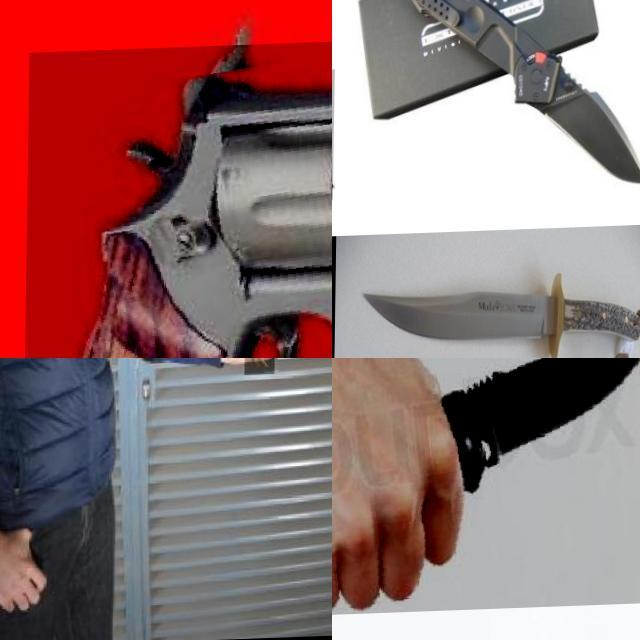-: (332, 358, 640, 618), (353, 282, 558, 358), (531, 66, 640, 194), (332, 71, 395, 206), (246, 358, 277, 418)
gun-knife-thesis - v11 Yolov5 augmented: (23, 35, 332, 358)
